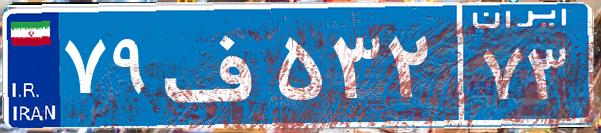2: (385, 28, 445, 110)
3: (330, 28, 385, 110), (525, 38, 570, 115)
5: (273, 28, 330, 110)
7: (57, 26, 110, 107), (475, 38, 525, 113)
9: (110, 28, 158, 105)
ف: (158, 15, 273, 115)
